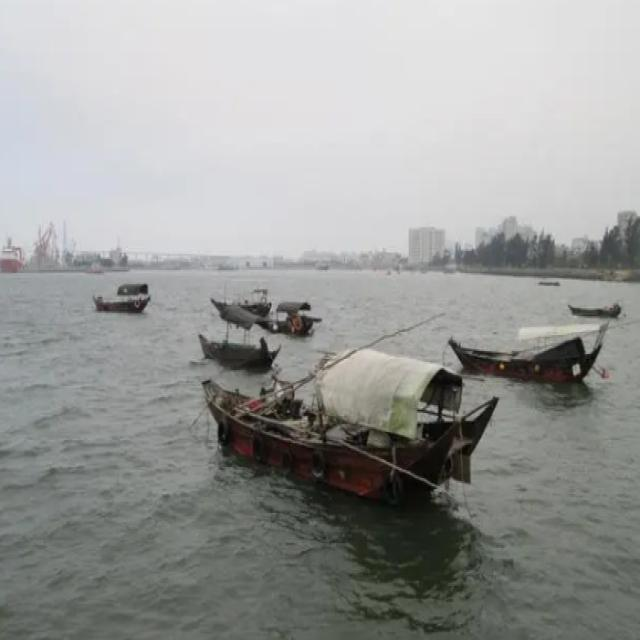fishing boat: (192, 324, 484, 502), (448, 309, 608, 383), (198, 301, 270, 367), (208, 268, 272, 318), (265, 286, 318, 342), (93, 268, 151, 314), (568, 296, 624, 317)
